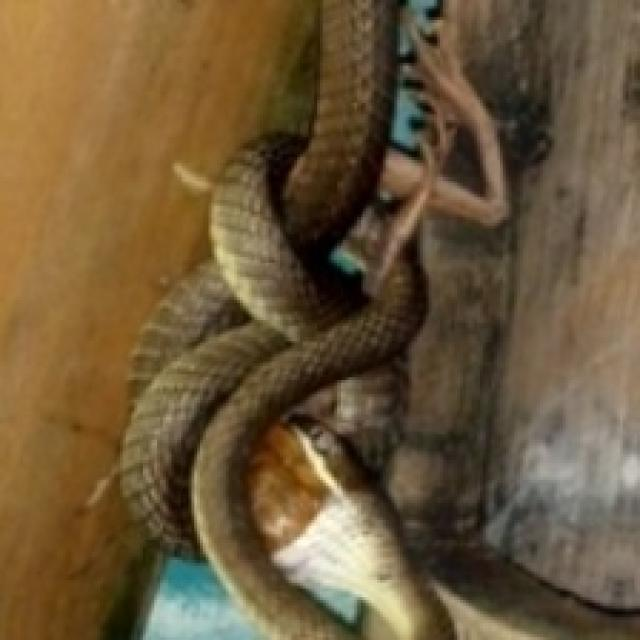paradise tree snake: (120, 0, 637, 637), (120, 0, 506, 637)
